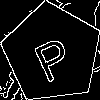P: (27, 28, 76, 84)
